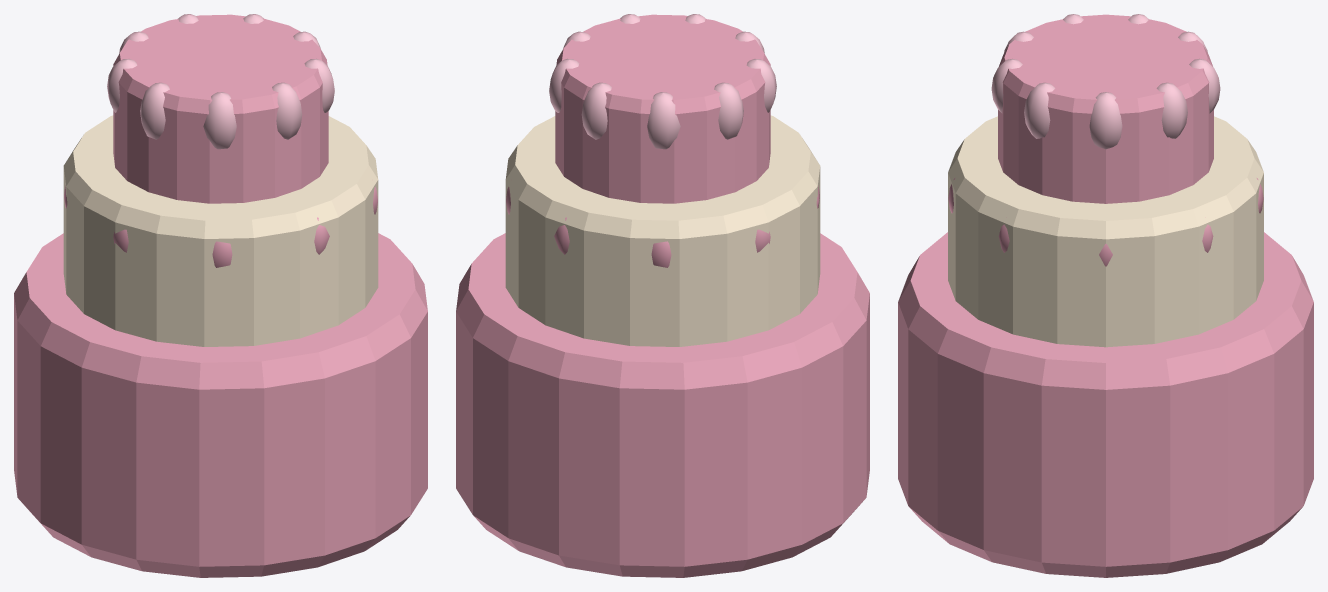
The model's file is wedding_cake.glb.
The picture shows the model from 3 angles, left to right: view 1: azimuth 30°, elevation 25°; view 2: azimuth 150°, elevation 25°; view 3: azimuth 270°, elevation 25°; orthographic projection.
Parts seen in each view (by area): view 1: model; view 2: model; view 3: model.
Part boxes in pixels (x1=…): model: x1=14, y1=14, x2=427, y2=577; model: x1=456, y1=14, x2=869, y2=577; model: x1=898, y1=14, x2=1313, y2=577.
Size of the model in its own units: 0.85 by 1 by 0.85.
